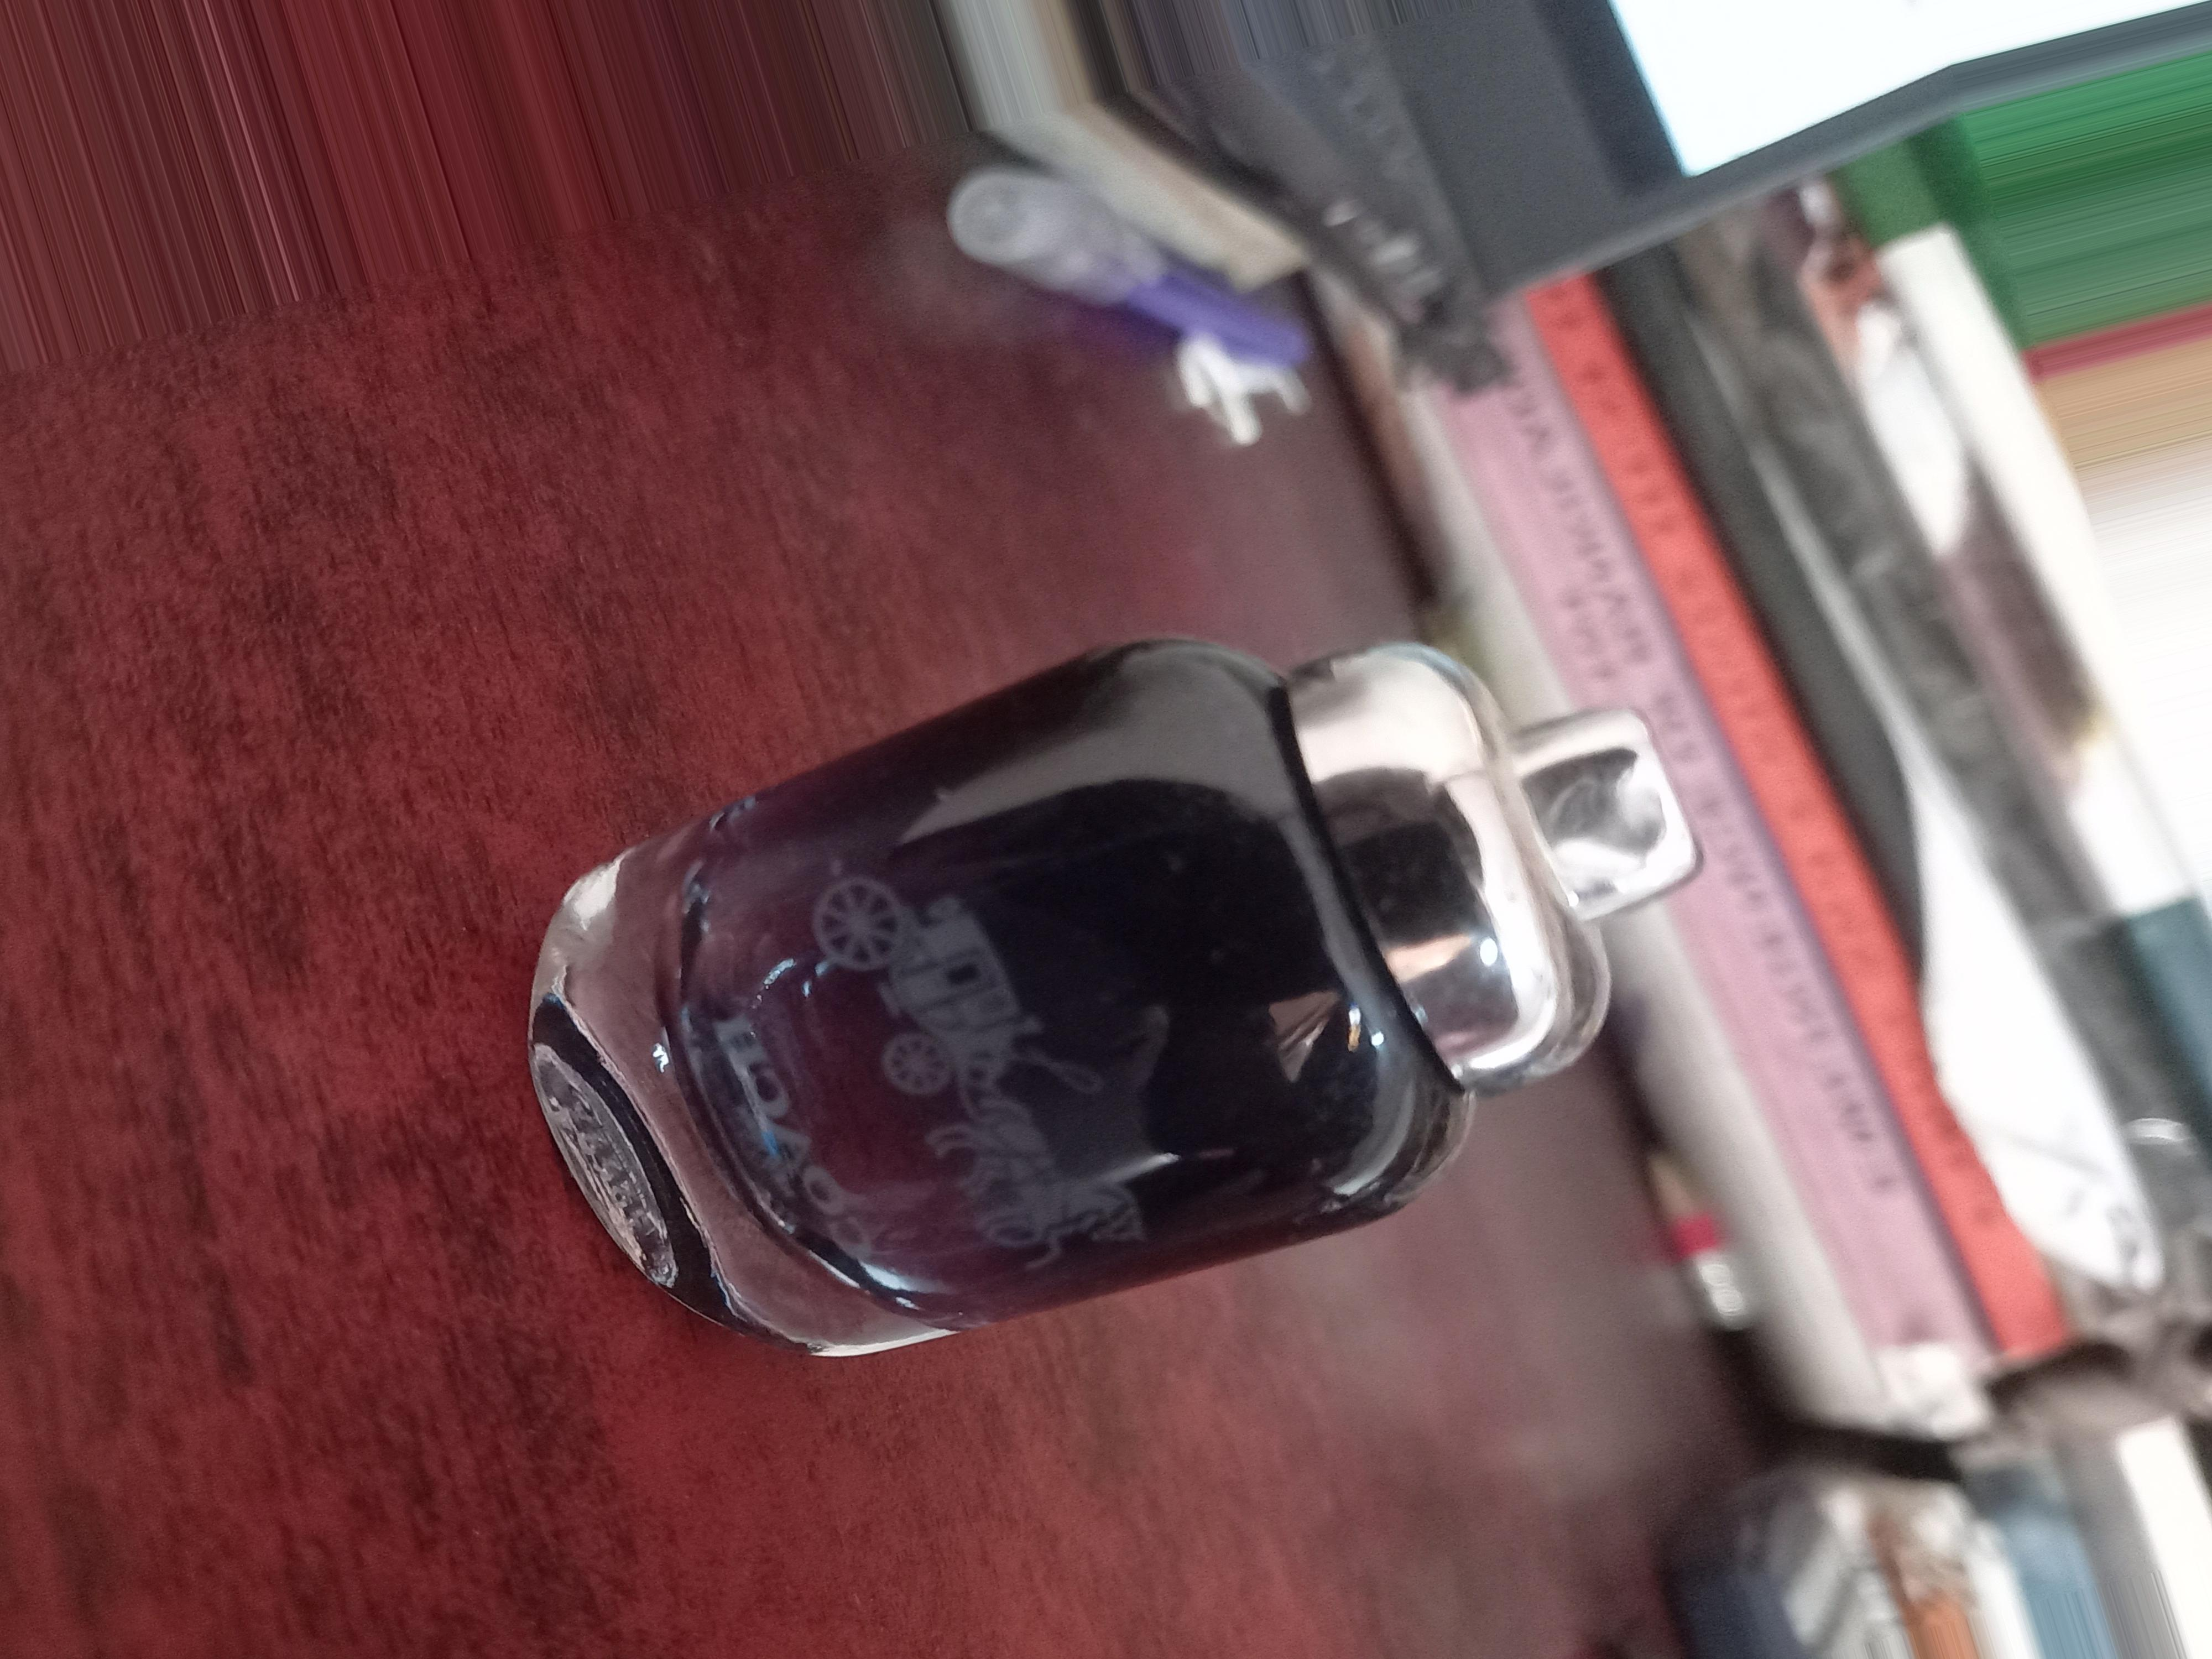perfume: (571, 530, 1705, 1466)
